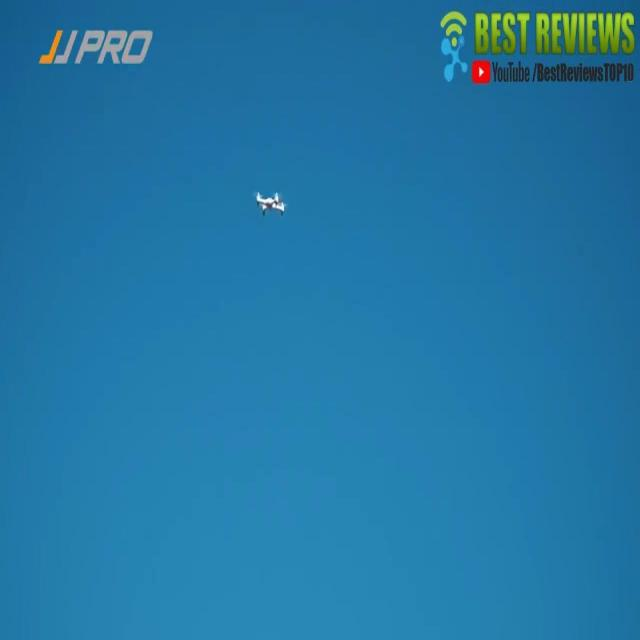UAV: (256, 192, 287, 216)
